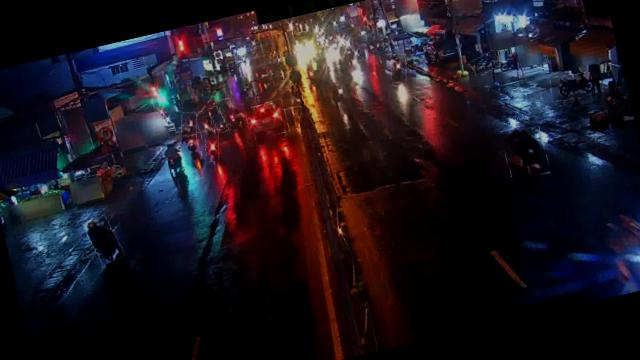Bike: (500, 122, 550, 182), (85, 214, 124, 266), (548, 70, 595, 104), (160, 140, 187, 178), (176, 128, 201, 161), (218, 96, 240, 133), (469, 52, 501, 77), (202, 128, 224, 163), (388, 52, 410, 84), (194, 110, 216, 141), (178, 110, 200, 138), (208, 104, 228, 134), (231, 104, 249, 133)
Car: (248, 100, 290, 140)
